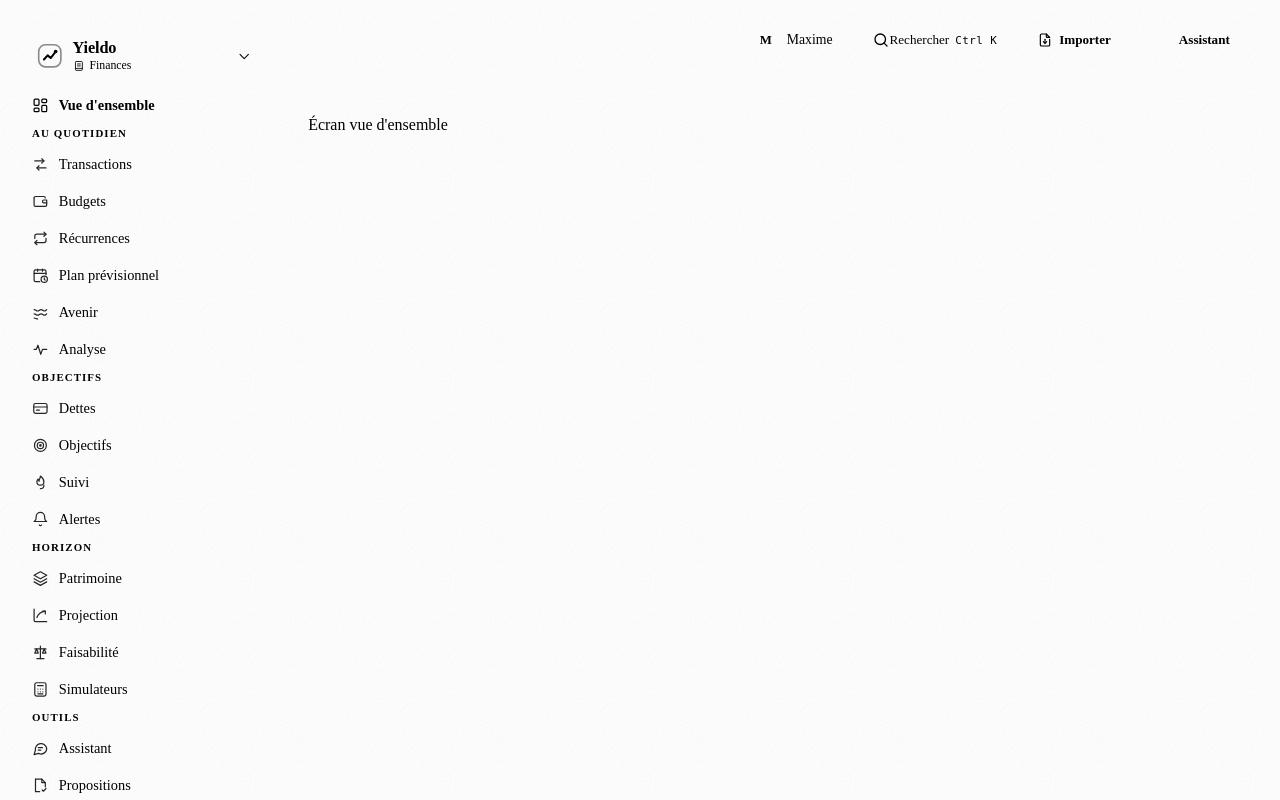
Test: AppShell › routes the Analyse nav entry to the analysis screen
Click the link "Analyse".
click(69, 349)  # box x1=32 y1=341 x2=106 y2=358
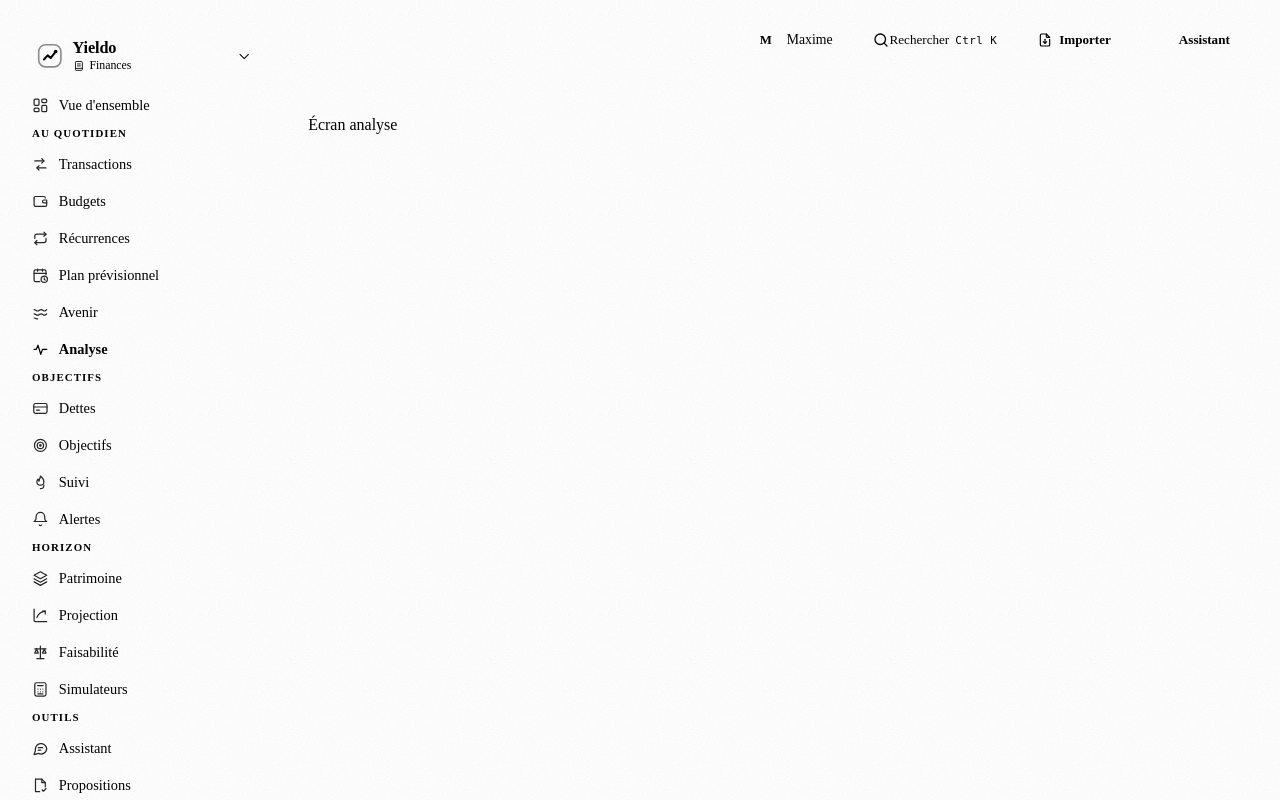
Check: the element showing "Écran analyse" is shown, box x1=308 y1=116 x2=398 y2=133
